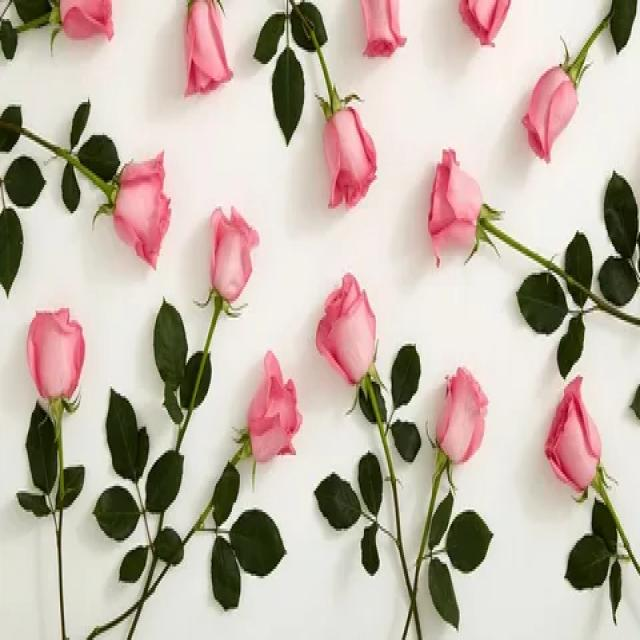rose: (312, 82, 388, 230), (419, 120, 493, 267), (312, 257, 388, 395), (534, 370, 612, 504), (198, 193, 263, 328), (22, 294, 84, 412)
